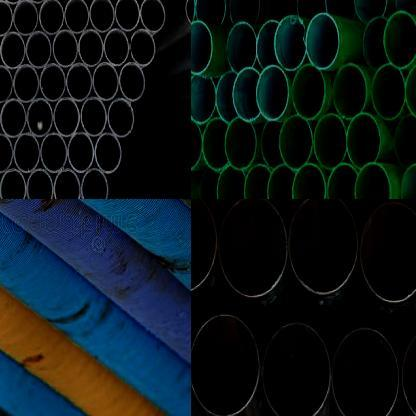pipe: (191, 313, 262, 416), (259, 319, 332, 416), (288, 199, 359, 297), (218, 199, 288, 298), (330, 324, 400, 416), (359, 199, 416, 305), (191, 199, 218, 296), (371, 63, 407, 121), (332, 61, 366, 120), (382, 10, 416, 68), (346, 113, 381, 168), (278, 114, 312, 170), (292, 64, 326, 120), (314, 112, 346, 171), (274, 14, 306, 71), (306, 13, 339, 68), (256, 64, 288, 120), (224, 117, 257, 171), (232, 66, 260, 122), (226, 21, 256, 72), (202, 116, 228, 172), (362, 16, 388, 71), (354, 163, 391, 199), (291, 162, 326, 199), (260, 120, 286, 169), (191, 20, 213, 74), (394, 114, 416, 167), (191, 76, 215, 124), (328, 162, 359, 199), (95, 132, 122, 174), (67, 131, 94, 173), (216, 70, 237, 124), (26, 98, 54, 138), (107, 98, 135, 138), (40, 132, 67, 173), (118, 62, 146, 101), (53, 97, 80, 137), (80, 96, 107, 136), (39, 63, 66, 102), (266, 163, 295, 199), (66, 62, 92, 102), (13, 133, 39, 173), (0, 98, 26, 138), (243, 163, 271, 199), (13, 64, 39, 102), (92, 62, 118, 100), (78, 29, 104, 67), (104, 28, 130, 66), (216, 165, 245, 199), (0, 32, 25, 70), (53, 30, 78, 68), (25, 32, 51, 68), (130, 29, 155, 66), (13, 0, 38, 35), (39, 0, 64, 34), (64, 0, 89, 34), (353, 0, 388, 24), (53, 168, 80, 199), (81, 168, 108, 199), (89, 0, 114, 33), (26, 169, 53, 199), (140, 0, 166, 31), (0, 168, 26, 199), (115, 0, 140, 31), (196, 0, 227, 25), (229, 0, 259, 24), (199, 169, 222, 199), (405, 61, 416, 120), (267, 0, 298, 20), (191, 117, 202, 170), (325, 0, 356, 18), (401, 162, 416, 199), (297, 0, 328, 17), (0, 133, 13, 173), (0, 65, 12, 103), (0, 0, 12, 36), (394, 0, 416, 17), (184, 0, 191, 27)
